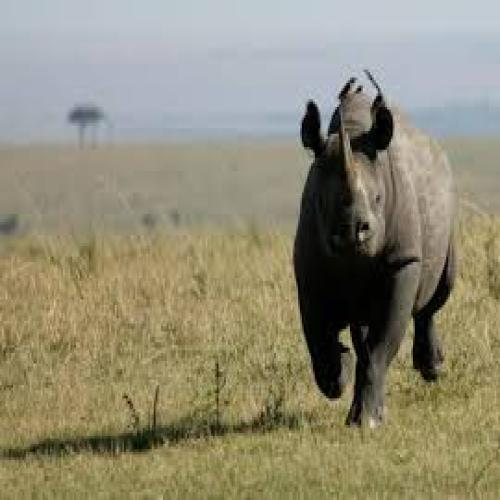rhino-endangered: (293, 72, 461, 432)
